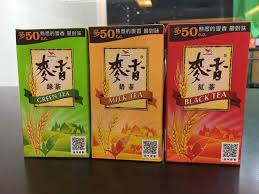鋁箔包: (164, 20, 253, 168), (85, 25, 166, 163), (13, 28, 92, 160)
